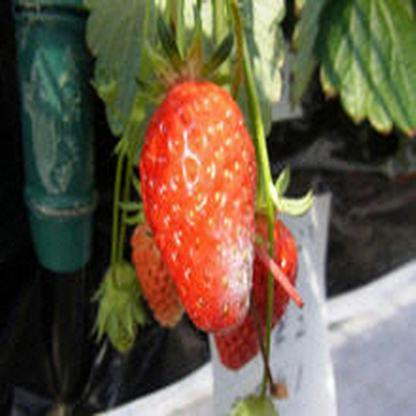Strawberry_Powdery_Mildew_Fruit: (203, 206, 256, 332)
